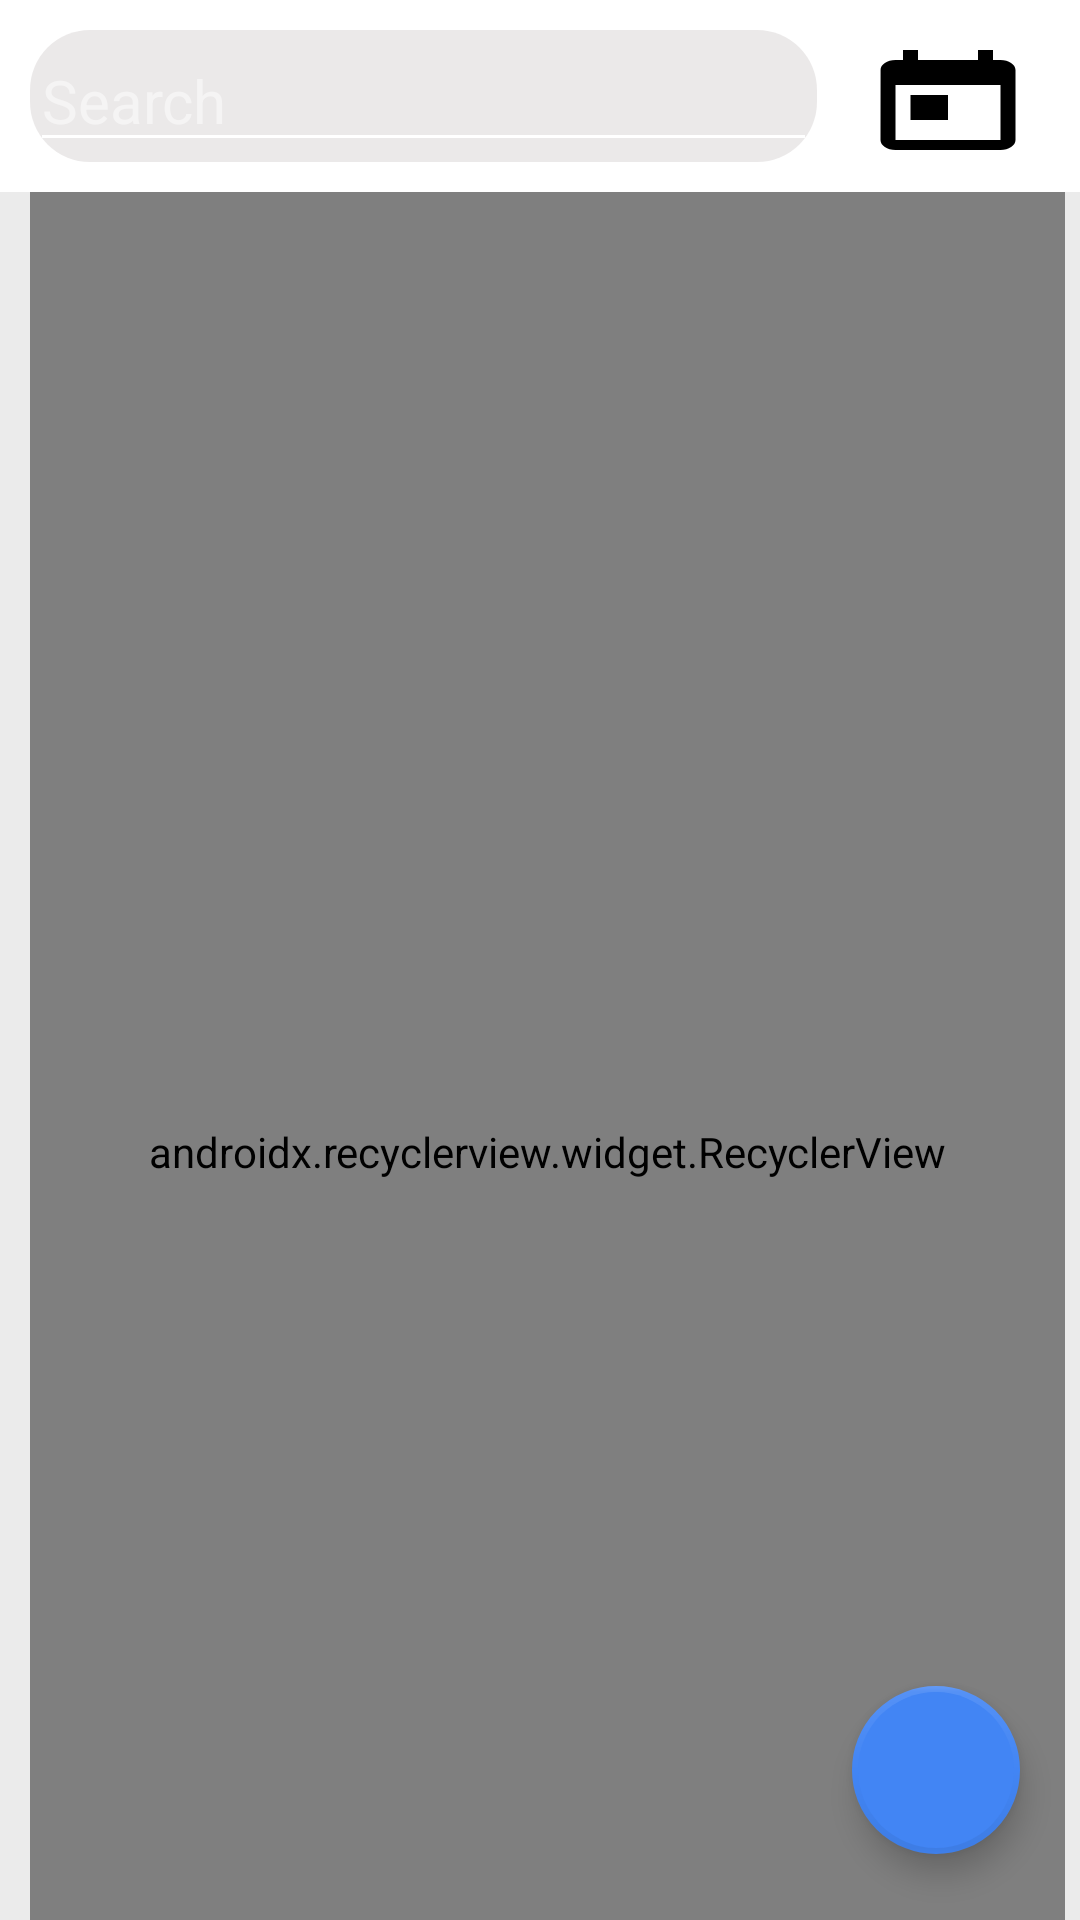

Named icons in this screenshot (1080 x 1920) and their bounding boxes, bbox=(x1, y1, x2, y2):
calendar: bbox=(880, 50, 1016, 150)
